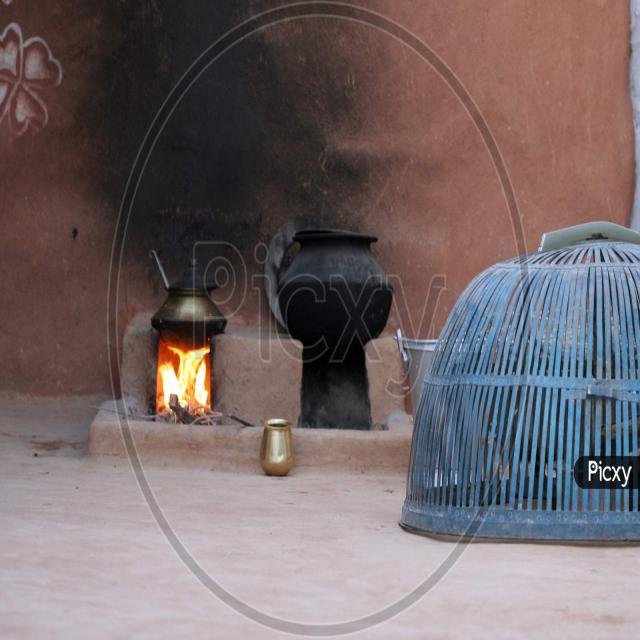fire: (159, 344, 210, 412)
